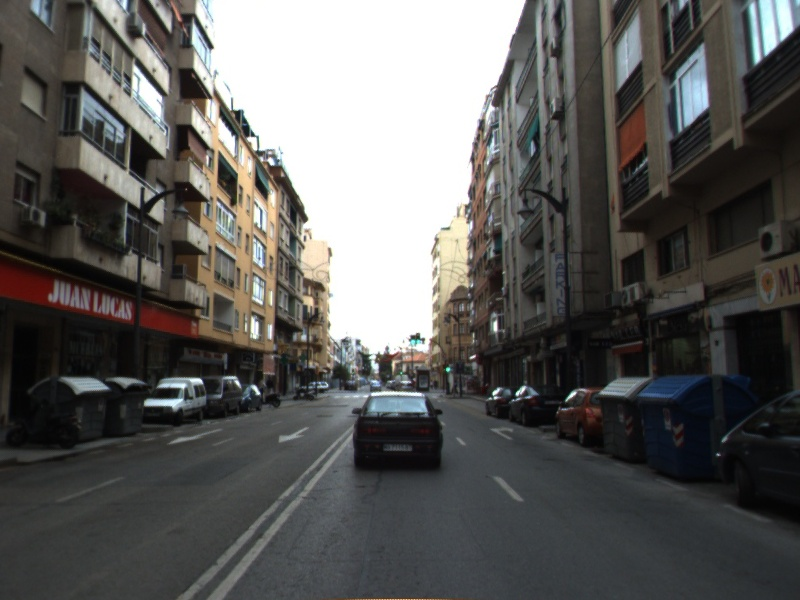RIGHT: (488, 424, 516, 442)
